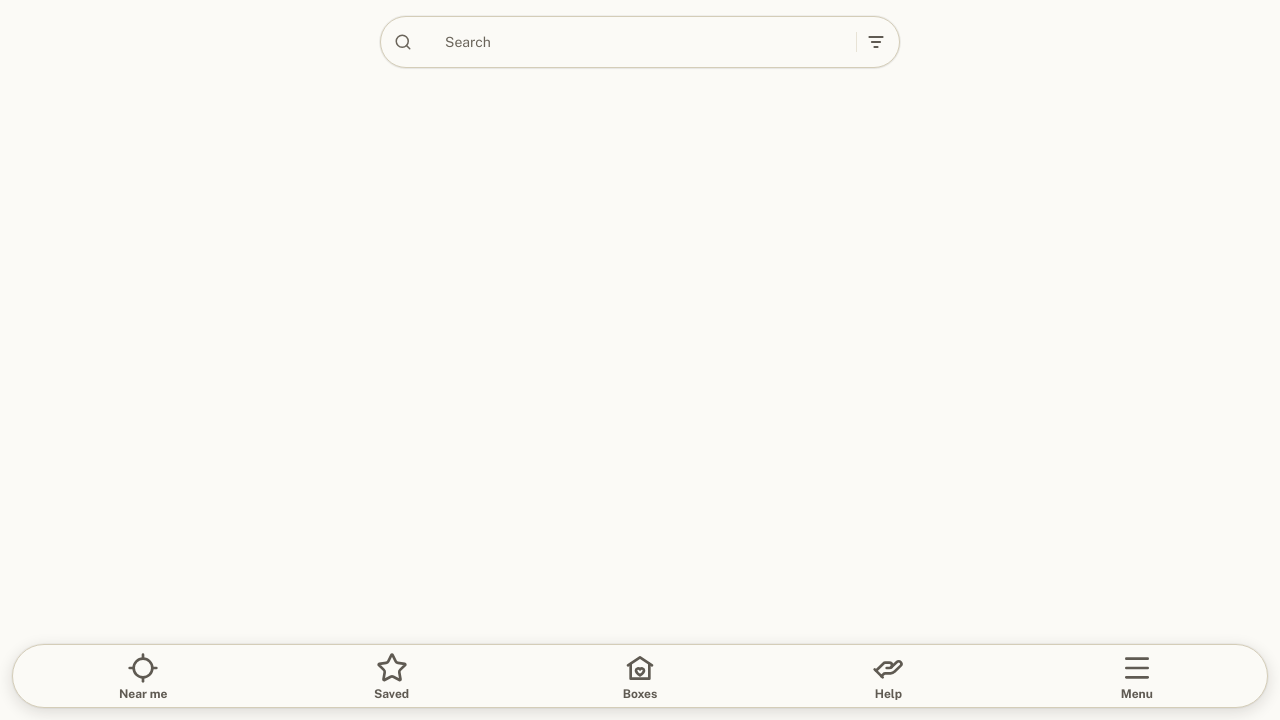
Test: MapWrapper — keyboard a11y: Tab reaches the suggestion rows (fix, reviewer, PR #522) › Tab-ing past the ViewSuggestion row still closes the popover (relatedTarget/containment, not a blind timer)
Click the dropdown at [640, 42], box x1=380 y1=16 x2=900 y2=68
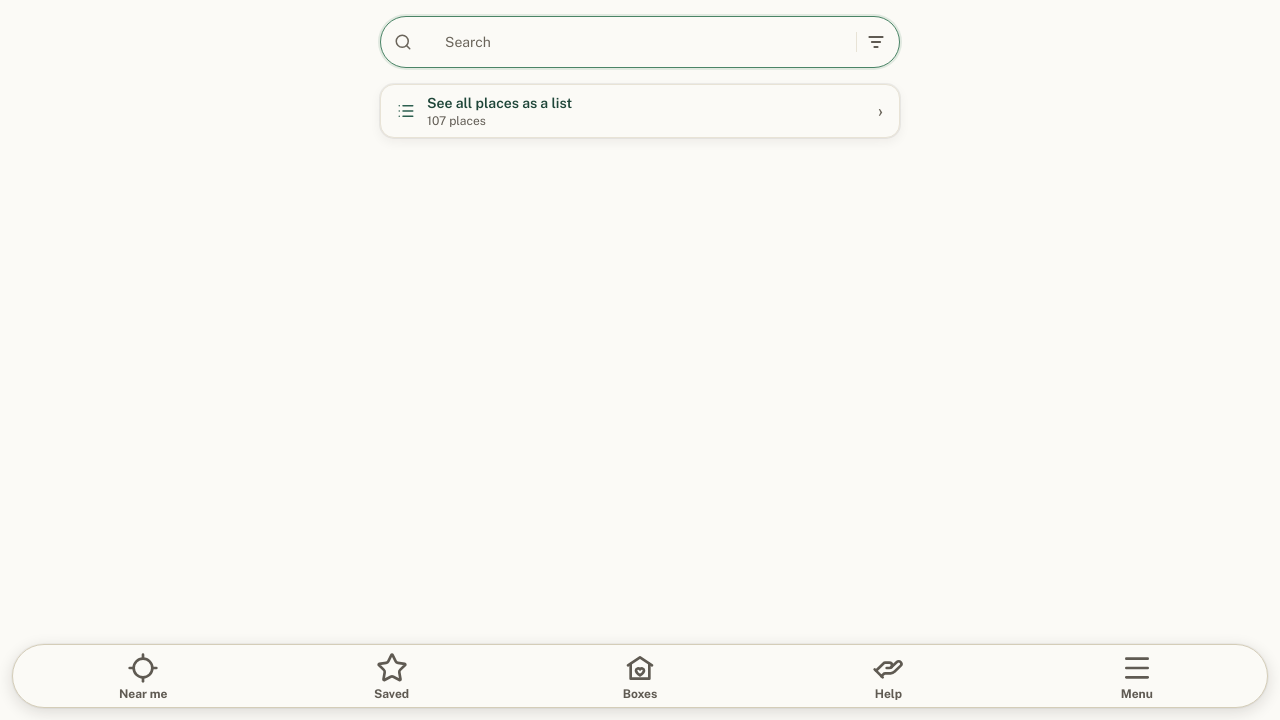
Press Tab
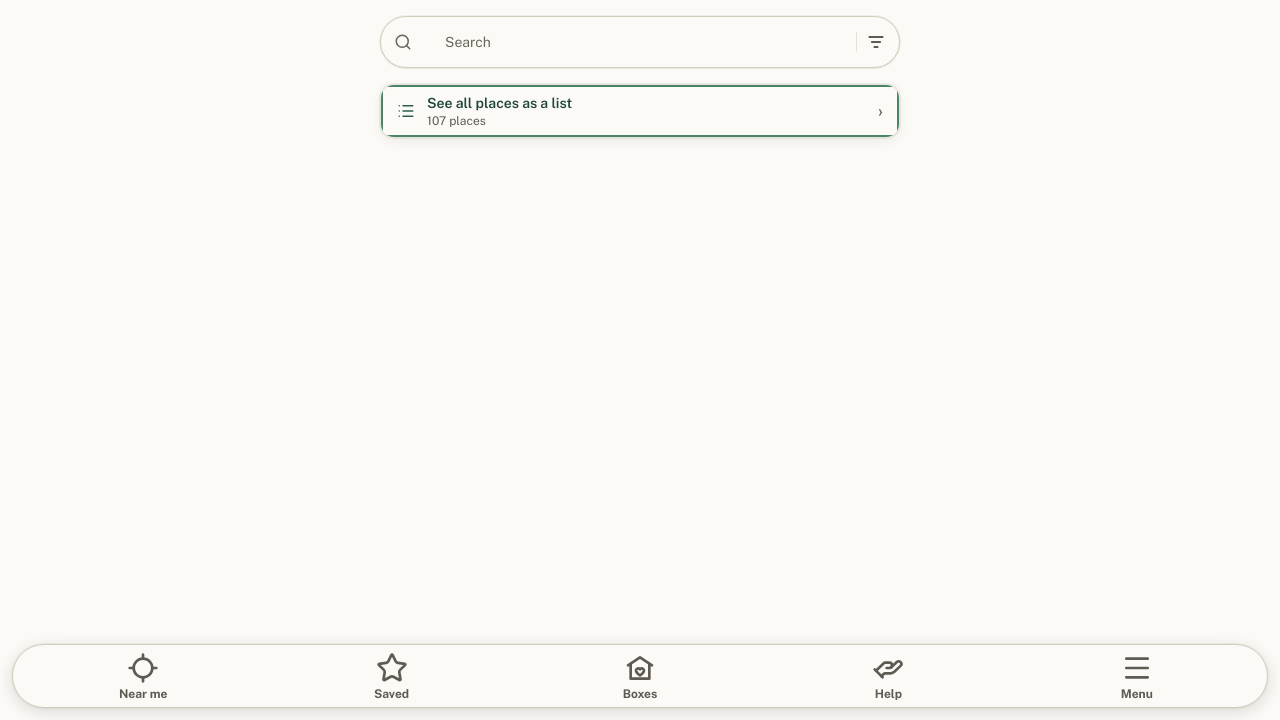
Press Tab
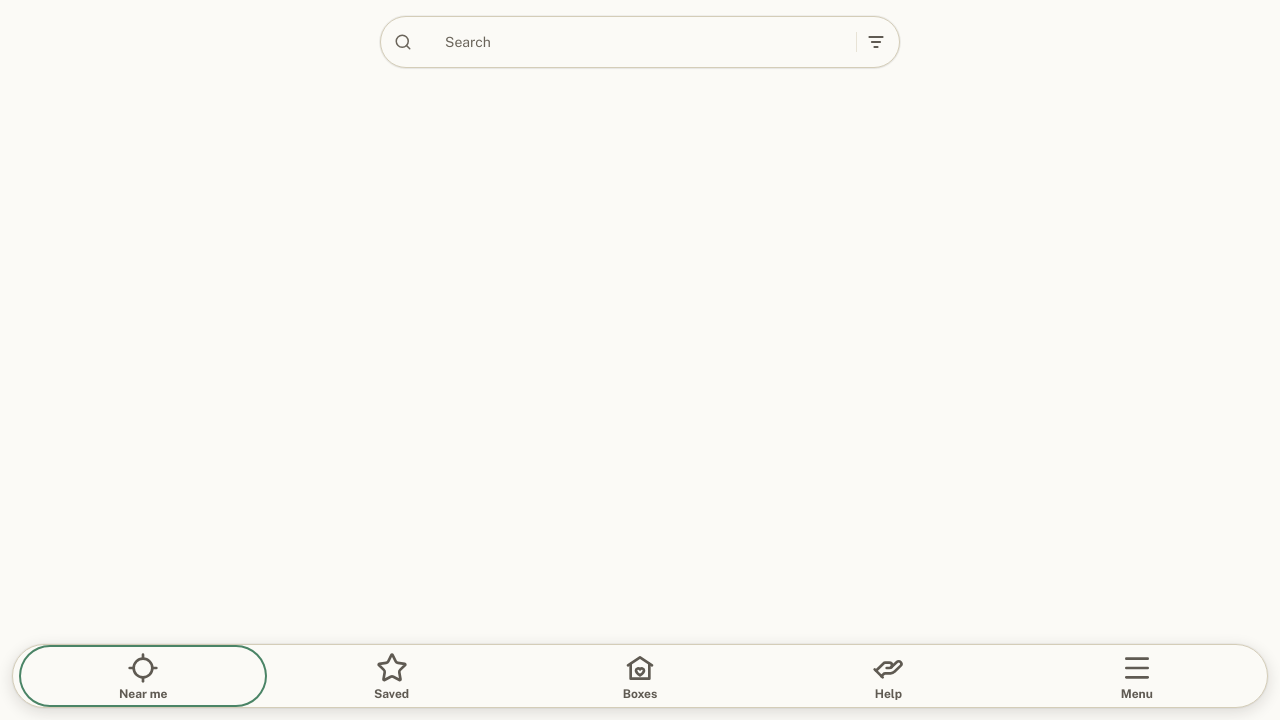
Result: the button "See all places as a list" is gone
